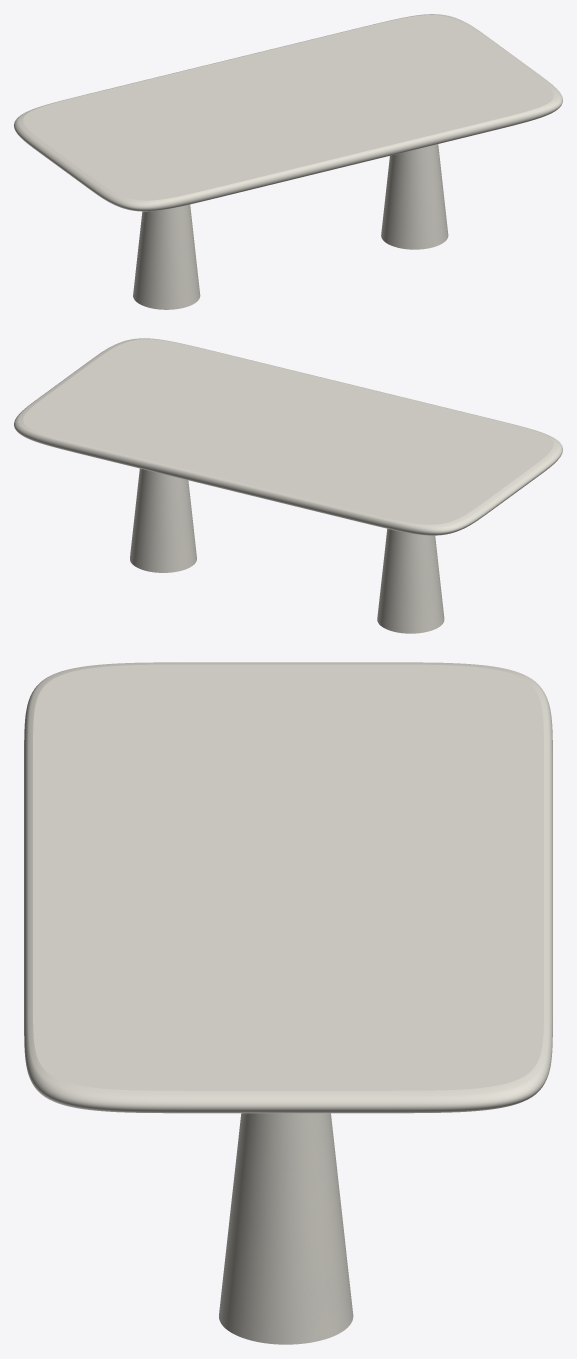
File: pale_softrecta_round_pebble.glb
The picture shows the model from 3 angles, top to bottom: view 1: azimuth 30°, elevation 25°; view 2: azimuth 150°, elevation 25°; view 3: azimuth 270°, elevation 25°; orthographic projection. The views are drawn at different scales.
Visible parts, largest first — view 1: round_softrecta, pebble; view 2: round_softrecta, pebble; view 3: round_softrecta, pebble.
Boxes of the visible parts, <box> form: round_softrecta: <box>14,14,562,211</box>; pebble: <box>133,144,448,309</box>; round_softrecta: <box>14,338,562,535</box>; pebble: <box>130,468,444,633</box>; round_softrecta: <box>24,662,552,1113</box>; pebble: <box>219,1113,353,1344</box>.
Bounding box in the file's own units: 7.5 × 2.5 × 3.8.
1 material, 1 textured.
